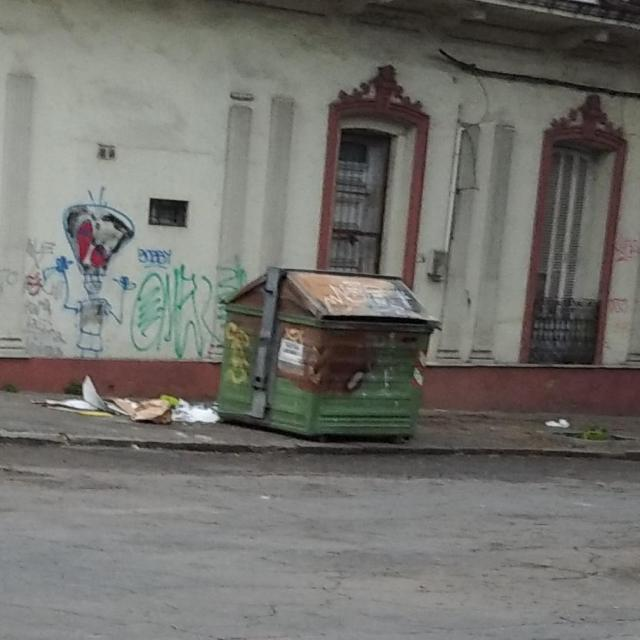garbage: (25, 372, 223, 433)
